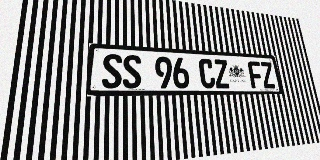6: (172, 57, 190, 88)
9: (155, 56, 173, 88)
C: (198, 58, 216, 88)
F: (247, 61, 264, 88)
S: (102, 53, 122, 88), (123, 55, 142, 88)
Z: (213, 59, 230, 88), (260, 62, 276, 88)
